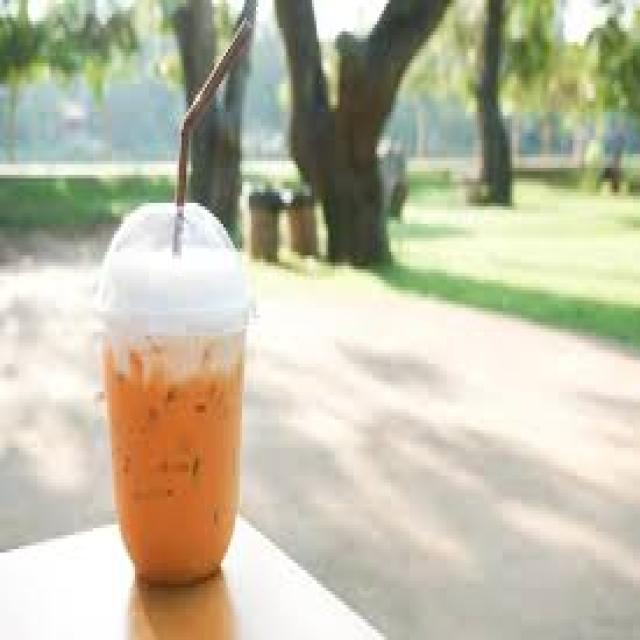bottle: (105, 333, 244, 583)
